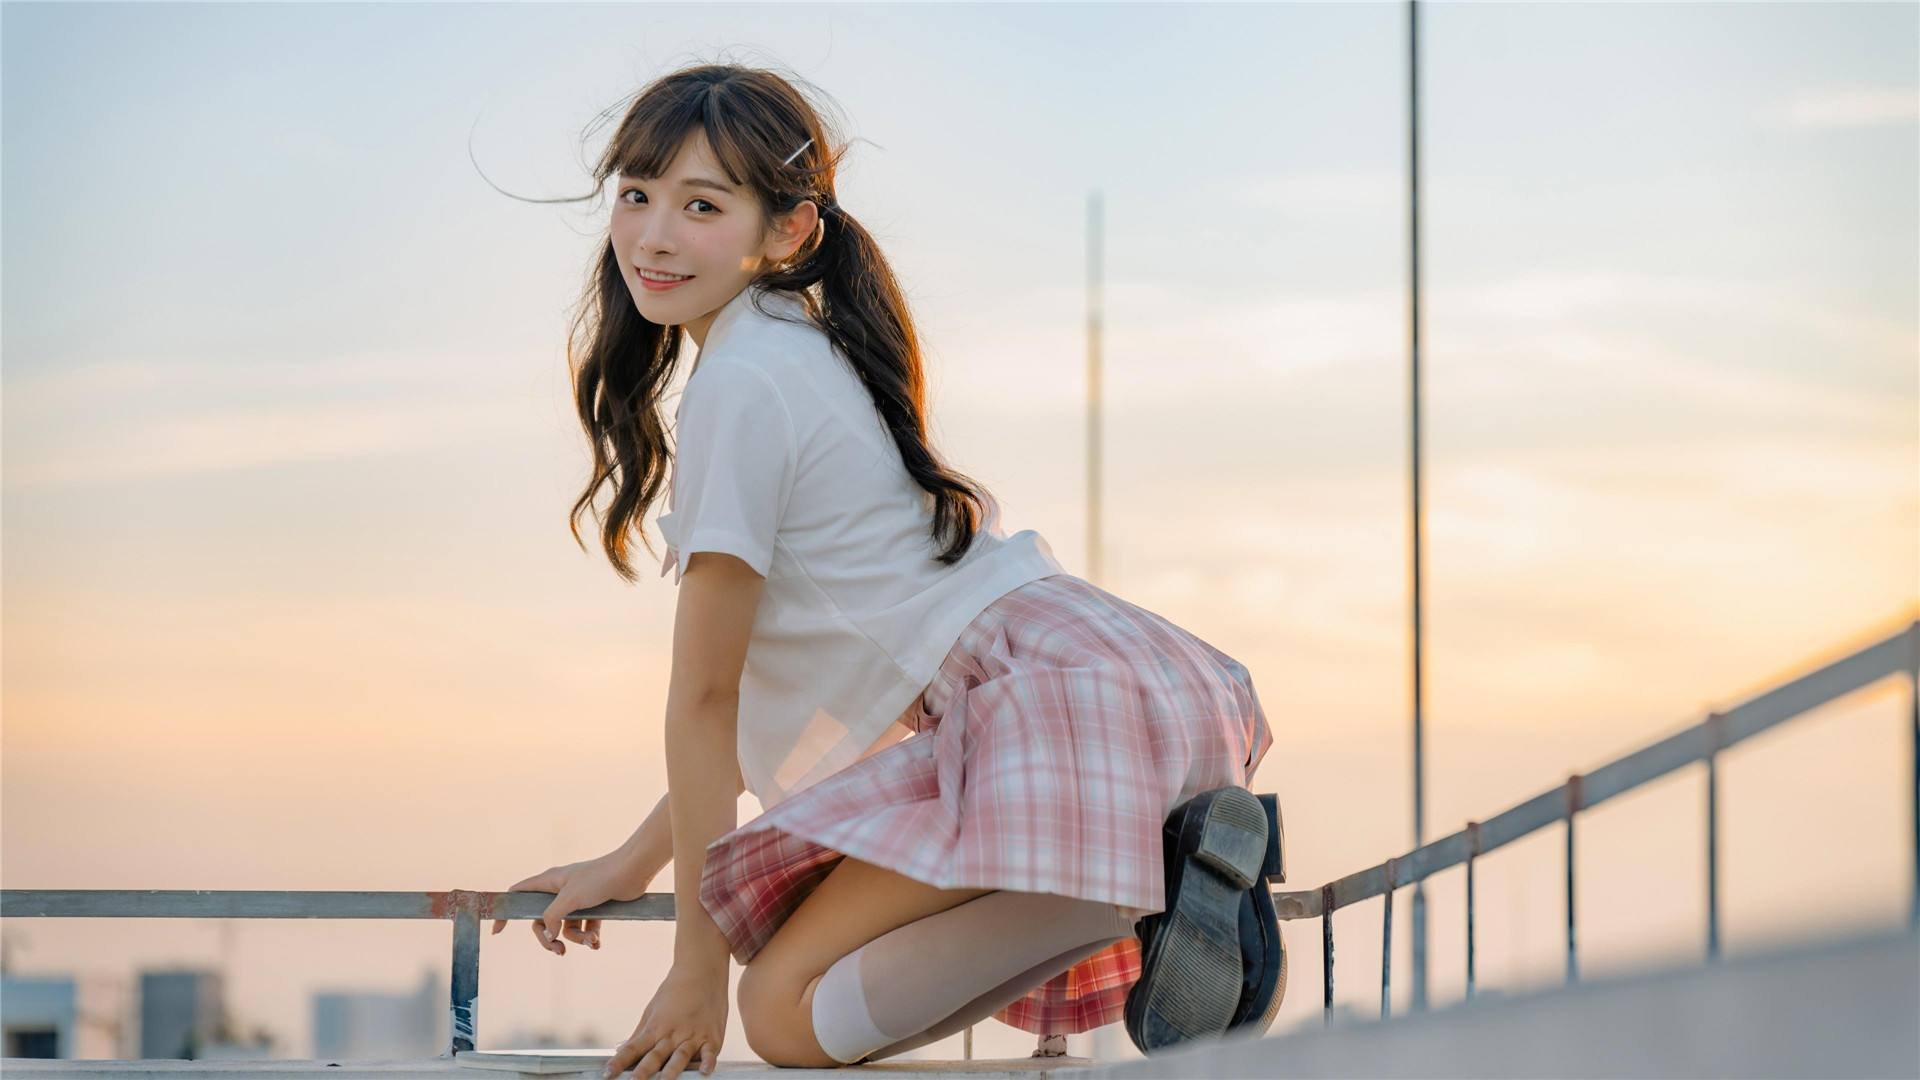person: (427, 99, 1291, 1080)
